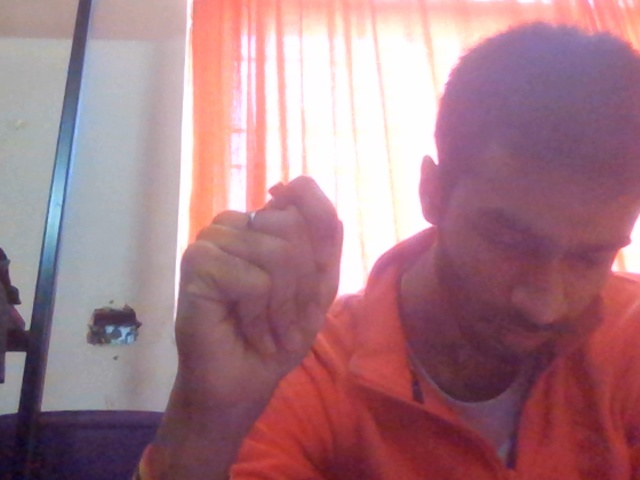T: (151, 155, 381, 472)
